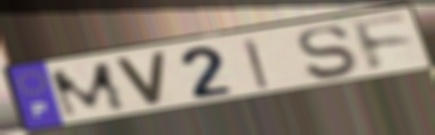2: (181, 44, 243, 103)
F: (348, 13, 417, 75)
I: (240, 36, 272, 92)
M: (46, 59, 131, 122)
S: (294, 24, 359, 83)
V: (110, 50, 170, 107)
